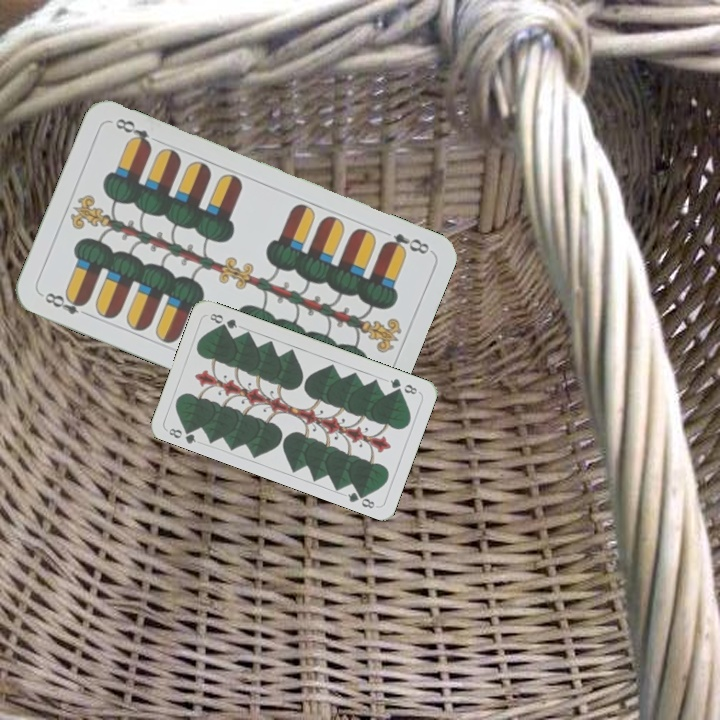E8: (40, 288, 94, 320), (379, 229, 432, 257)
G8: (165, 422, 199, 446), (386, 374, 420, 397)
